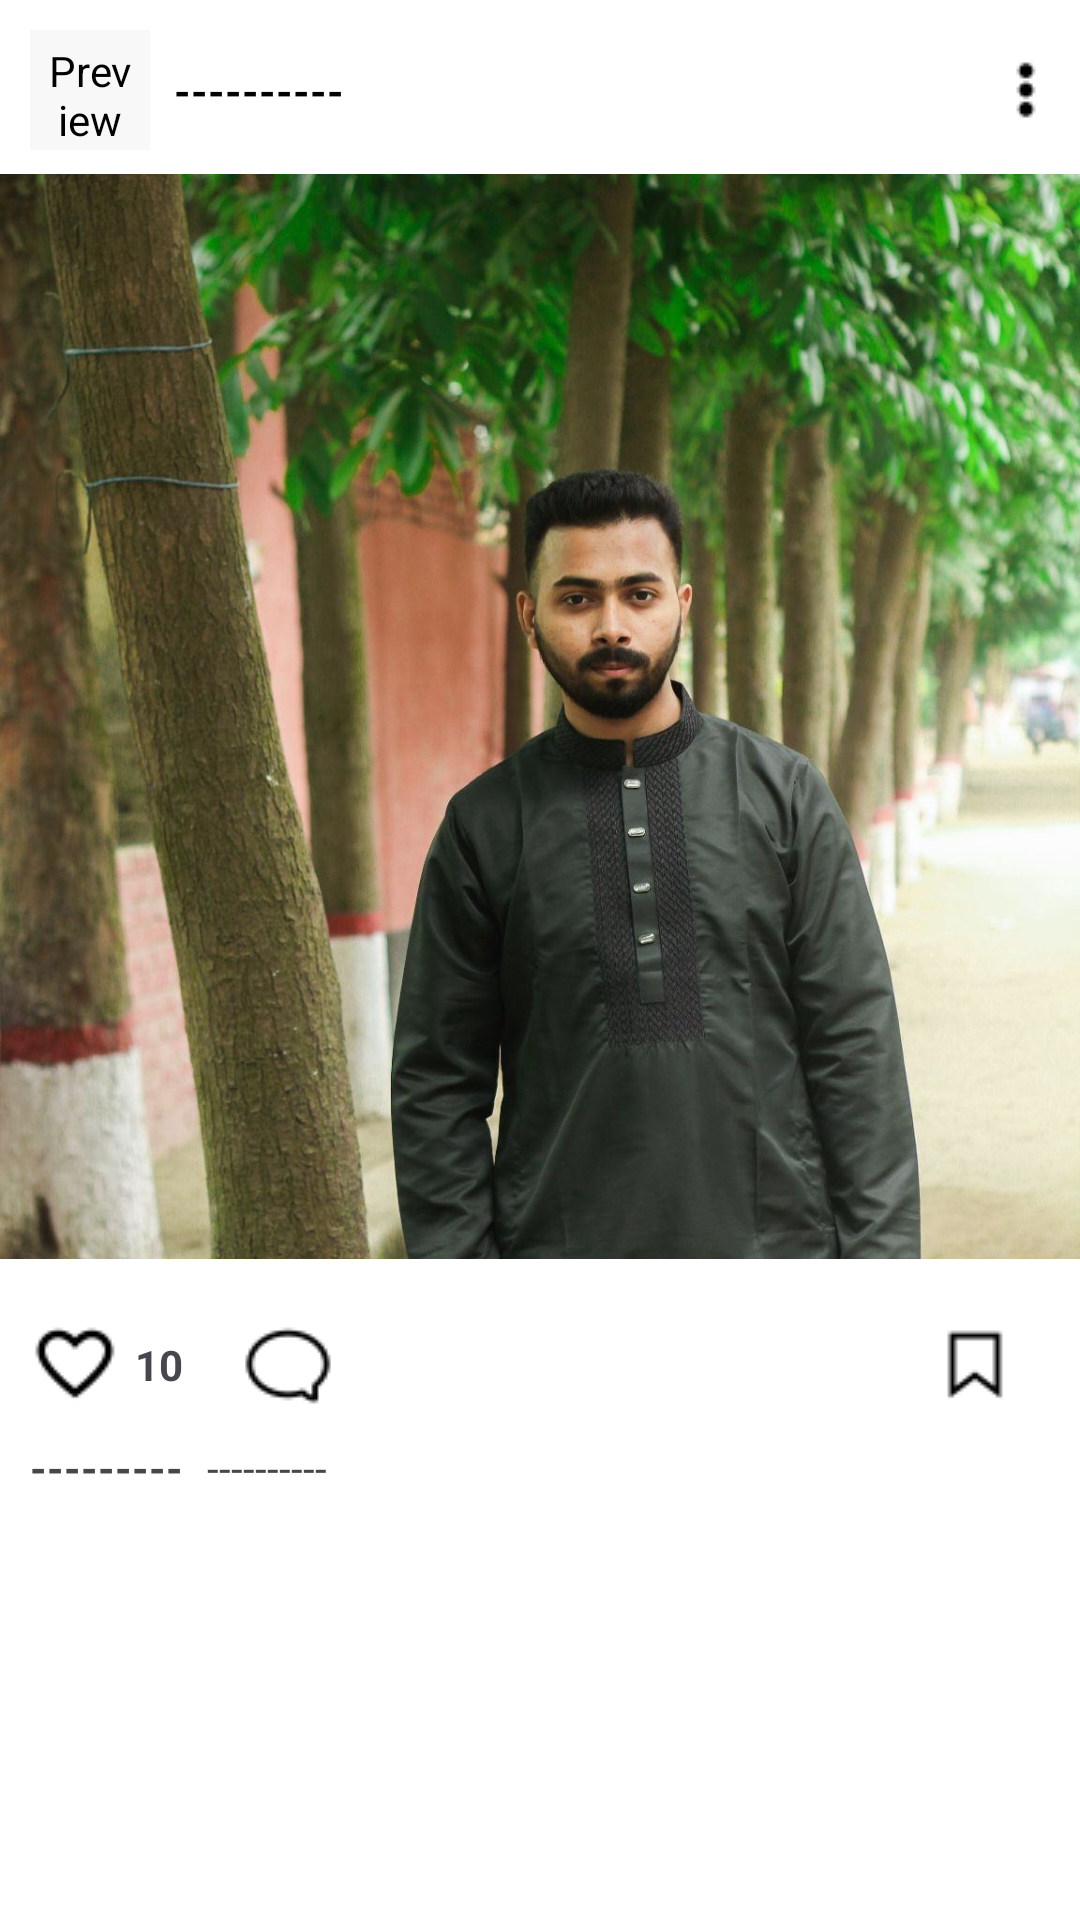

Screen size 1080 × 1920. Icon name, then its center in pixels as [x,y]:
love thirty: [75,1363]
menu: [1026,90]
save: [975,1364]
